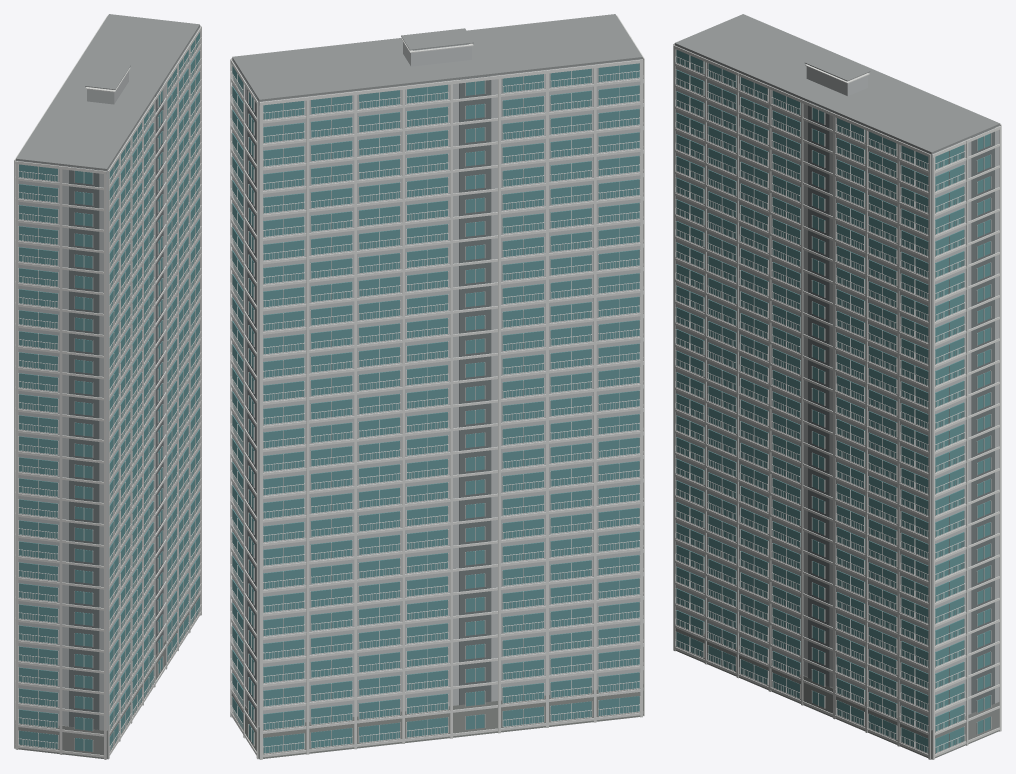
Rendered from bespoke-jamsil-ricenz-241.glb.
The picture shows the model from 3 angles, left to right: view 1: azimuth 30°, elevation 25°; view 2: azimuth 150°, elevation 25°; view 3: azimuth 270°, elevation 25°; orthographic projection. The views are drawn at different scales.
Parts seen in each view (by area): view 1: Ricenz241_editable_Ricenz241_turquoise_balcony_glazing, Ricenz241_white_exact_chunk_0, Ricenz241_editable_Ricenz241_light_grey_solid_wall, Ricenz241_white_exact_chunk_3, Ricenz241_editable_Ricenz241_modest_grey_flat_roof_caps, Ricenz241_editable_Ricenz241_narrow_charcoal_service_strips, Ricenz241_white_exact_chunk_2, Ricenz241_white_exact_chunk_1, Ricenz241_editable_Ricenz241_muted_ground_wall, Ricenz241_white_exact_chunk_7; view 2: Ricenz241_editable_Ricenz241_turquoise_balcony_glazing, Ricenz241_editable_Ricenz241_light_grey_solid_wall, Ricenz241_white_exact_chunk_4, Ricenz241_white_exact_chunk_5, Ricenz241_white_exact_chunk_6, Ricenz241_white_exact_chunk_7, Ricenz241_editable_Ricenz241_modest_grey_flat_roof_caps, Ricenz241_editable_Ricenz241_narrow_charcoal_service_strips, Ricenz241_white_exact_chunk_3, Ricenz241_editable_Ricenz241_muted_ground_wall, Ricenz241_white_exact_chunk_0; view 3: Ricenz241_editable_Ricenz241_turquoise_balcony_glazing, Ricenz241_editable_Ricenz241_light_grey_solid_wall, Ricenz241_white_exact_chunk_3, Ricenz241_white_exact_chunk_2, Ricenz241_white_exact_chunk_1, Ricenz241_editable_Ricenz241_narrow_charcoal_service_strips, Ricenz241_editable_Ricenz241_modest_grey_flat_roof_caps, Ricenz241_white_exact_chunk_0, Ricenz241_white_exact_chunk_4, Ricenz241_editable_Ricenz241_muted_ground_wall.
Part boxes in pixels (bbox=[...]): Ricenz241_editable_Ricenz241_turquoise_balcony_glazing: bbox=[19, 32, 199, 751]; Ricenz241_white_exact_chunk_0: bbox=[15, 158, 131, 759]; Ricenz241_editable_Ricenz241_light_grey_solid_wall: bbox=[16, 26, 199, 730]; Ricenz241_white_exact_chunk_3: bbox=[108, 26, 201, 759]; Ricenz241_editable_Ricenz241_modest_grey_flat_roof_caps: bbox=[16, 14, 199, 170]; Ricenz241_editable_Ricenz241_narrow_charcoal_service_strips: bbox=[69, 83, 163, 729]; Ricenz241_white_exact_chunk_2: bbox=[144, 67, 189, 683]; Ricenz241_white_exact_chunk_1: bbox=[120, 121, 154, 719]; Ricenz241_editable_Ricenz241_muted_ground_wall: bbox=[15, 590, 200, 759]; Ricenz241_white_exact_chunk_7: bbox=[14, 15, 130, 748]; Ricenz241_editable_Ricenz241_turquoise_balcony_glazing: bbox=[232, 63, 639, 753]; Ricenz241_editable_Ricenz241_light_grey_solid_wall: bbox=[232, 42, 642, 727]; Ricenz241_white_exact_chunk_4: bbox=[230, 59, 402, 759]; Ricenz241_white_exact_chunk_5: bbox=[357, 81, 545, 741]; Ricenz241_white_exact_chunk_6: bbox=[501, 69, 640, 725]; Ricenz241_white_exact_chunk_7: bbox=[259, 38, 643, 759]; Ricenz241_editable_Ricenz241_modest_grey_flat_roof_caps: bbox=[232, 14, 642, 101]; Ricenz241_editable_Ricenz241_narrow_charcoal_service_strips: bbox=[247, 76, 491, 723]; Ricenz241_white_exact_chunk_3: bbox=[230, 58, 256, 754]; Ricenz241_editable_Ricenz241_muted_ground_wall: bbox=[231, 684, 643, 759]; Ricenz241_white_exact_chunk_0: bbox=[617, 15, 644, 715]; Ricenz241_editable_Ricenz241_turquoise_balcony_glazing: bbox=[676, 49, 990, 752]; Ricenz241_editable_Ricenz241_light_grey_solid_wall: bbox=[674, 45, 1000, 729]; Ricenz241_white_exact_chunk_3: bbox=[673, 45, 999, 759]; Ricenz241_white_exact_chunk_2: bbox=[770, 90, 897, 743]; Ricenz241_white_exact_chunk_1: bbox=[706, 63, 800, 702]; Ricenz241_editable_Ricenz241_narrow_charcoal_service_strips: bbox=[808, 102, 994, 713]; Ricenz241_editable_Ricenz241_modest_grey_flat_roof_caps: bbox=[674, 14, 1000, 153]; Ricenz241_white_exact_chunk_0: bbox=[673, 44, 736, 675]; Ricenz241_white_exact_chunk_4: bbox=[932, 125, 1001, 759]; Ricenz241_editable_Ricenz241_muted_ground_wall: bbox=[675, 624, 999, 759].
Bounding box in the file's own units: 41.06 × 85.53 × 40.82.
